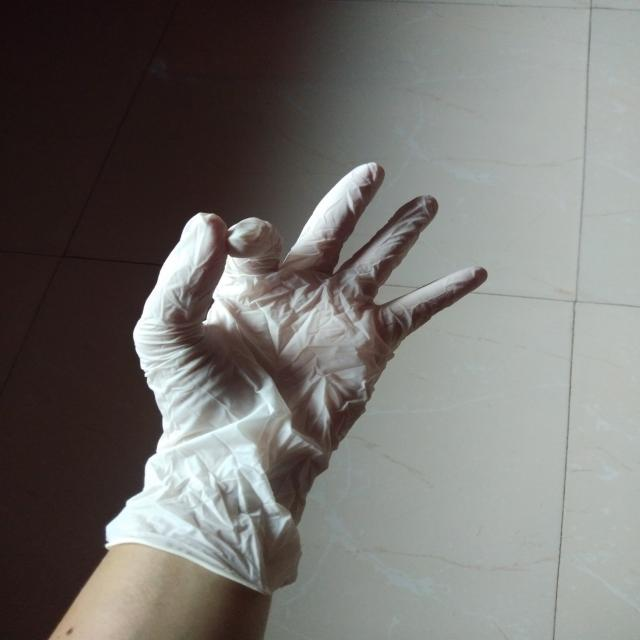glove_hand: (90, 158, 493, 600)
